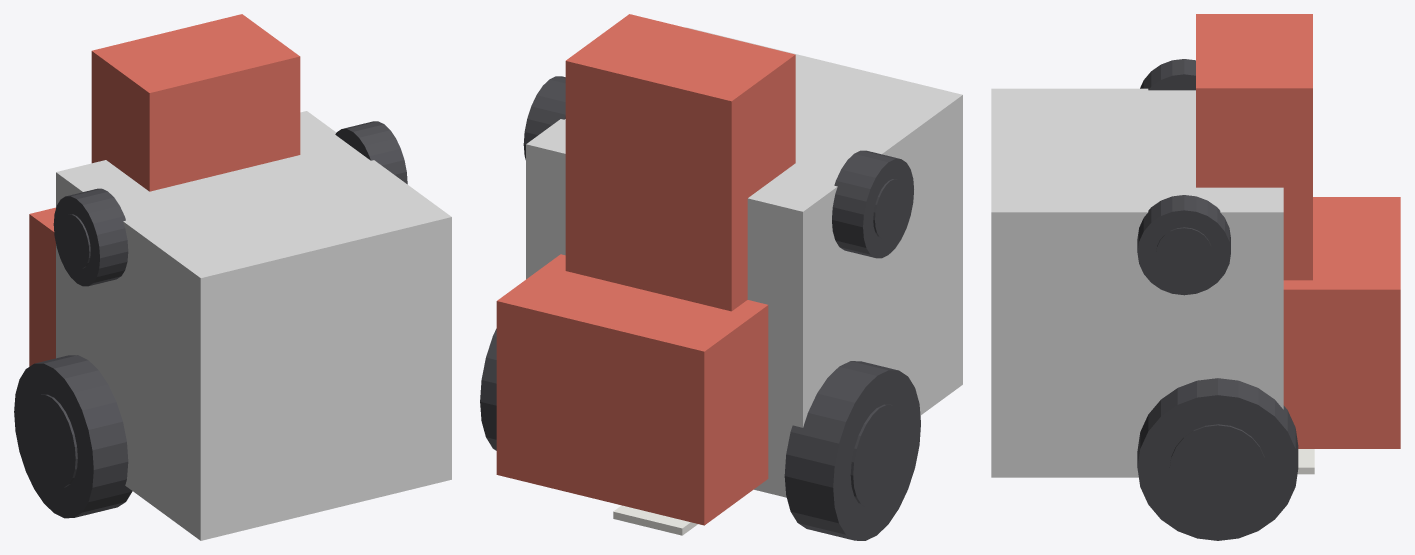
Rendered from tractor_3.glb.
3 views of the same model, side by side, from view 1: azimuth 30°, elevation 25°; view 2: azimuth 150°, elevation 25°; view 3: azimuth 270°, elevation 25° (orthographic). The views are drawn at different scales.
Parts seen in each view (by area): view 1: Cube, Bonnet, Wheel_RR, Wheel_FR, Cabin, Wheel_FL; view 2: Cube, Cabin, Bonnet, Wheel_RR, Wheel_FR, Wheel_FL, Wheel_RL, Plate; view 3: Cube, Cabin, Bonnet, Wheel_RL, Wheel_FL, Wheel_FR.
Part boxes in pixels (left/top/right/bottom): Cube: left=56, top=111, right=451, bottom=540; Bonnet: left=91, top=14, right=300, bottom=191; Wheel_RR: left=14, top=355, right=132, bottom=518; Wheel_FR: left=53, top=188, right=128, bottom=286; Cabin: left=29, top=207, right=55, bottom=366; Wheel_FL: left=335, top=121, right=407, bottom=184; Cube: left=526, top=27, right=962, bottom=497; Cabin: left=496, top=254, right=768, bottom=525; Bonnet: left=565, top=14, right=795, bottom=311; Wheel_RR: left=784, top=361, right=920, bottom=540; Wheel_FR: left=832, top=150, right=913, bottom=258; Wheel_FL: left=523, top=76, right=565, bottom=159; Wheel_RL: left=480, top=328, right=496, bottom=450; Plate: left=613, top=505, right=697, bottom=535; Cube: left=991, top=88, right=1283, bottom=477; Cabin: left=1283, top=197, right=1400, bottom=448; Bonnet: left=1196, top=14, right=1312, bottom=280; Wheel_RL: left=1137, top=378, right=1298, bottom=540; Wheel_FL: left=1137, top=195, right=1230, bottom=295; Wheel_FR: left=1140, top=59, right=1195, bottom=90.
Bounding box in the file's own units: 2.59 × 3.1 × 2.8.
